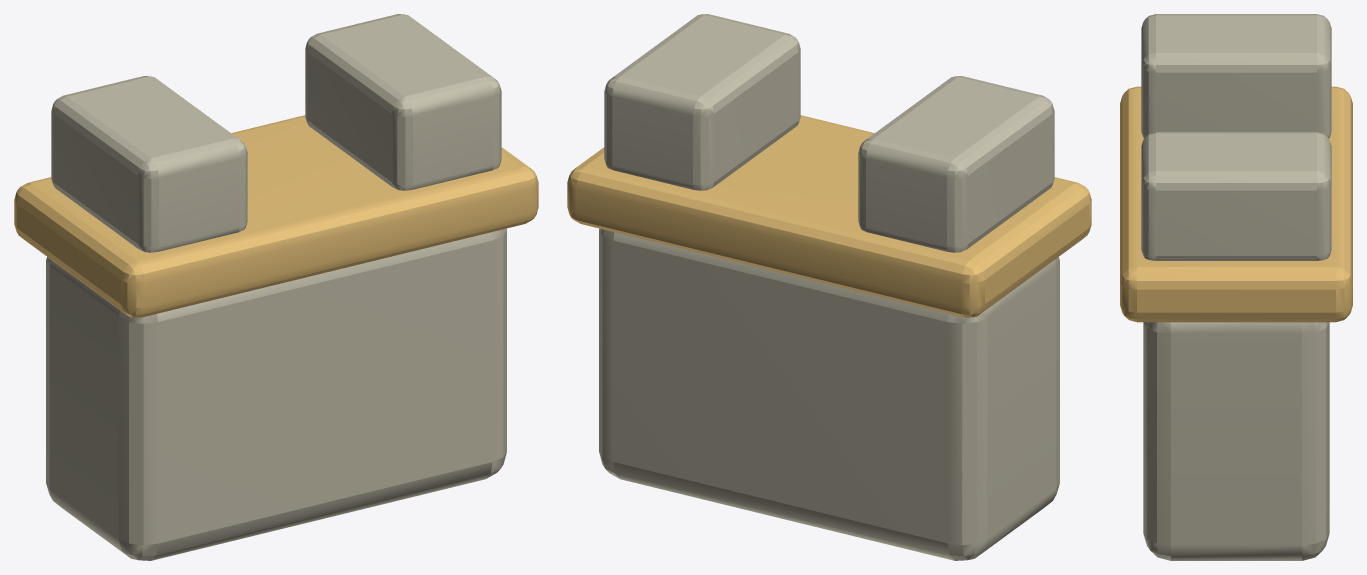
The model's file is wall.glb.
3 renders of one model, left to right at view 1: azimuth 30°, elevation 25°; view 2: azimuth 150°, elevation 25°; view 3: azimuth 270°, elevation 25°, orthographic. The views are drawn at different scales.
Parts seen in each view (by area): view 1: Surface_FoundryStone, Surface_Brass; view 2: Surface_FoundryStone, Surface_Brass; view 3: Surface_FoundryStone, Surface_Brass.
Part boxes in pixels (x1=…): Surface_FoundryStone: x1=46, y1=14, x2=506, y2=560; Surface_Brass: x1=14, y1=115, x2=538, y2=317; Surface_FoundryStone: x1=599, y1=14, x2=1059, y2=560; Surface_Brass: x1=567, y1=115, x2=1091, y2=317; Surface_FoundryStone: x1=1141, y1=14, x2=1331, y2=560; Surface_Brass: x1=1120, y1=86, x2=1352, y2=322.
Bounding box in the file's own units: 1.08 × 1.01 × 0.55.
